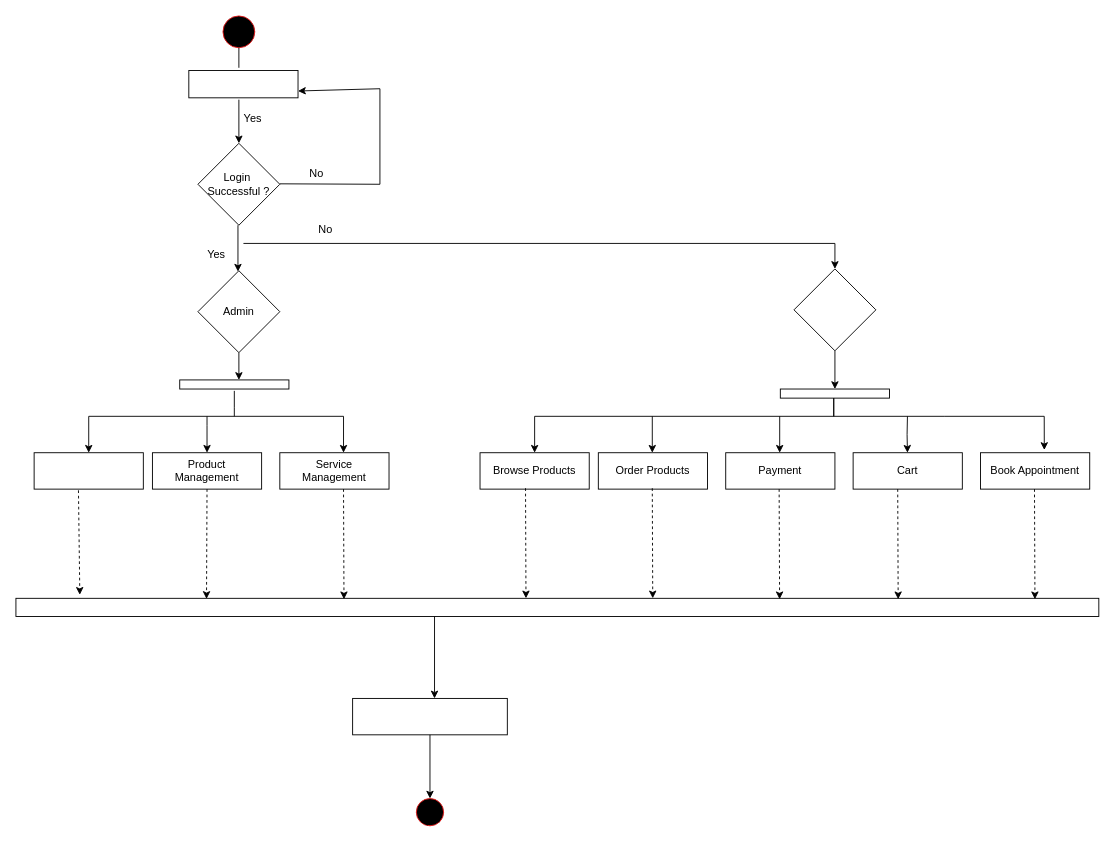
This 1115x845 diagram has some shape labels left out. The shapes that lost their labels are listed below. From the top down, each one's box as (x1, y1, x2, y2) in pixels, then its label:
(188, 70, 298, 98): Login
(793, 268, 876, 351): Registered User
(33, 452, 143, 489): Website Management
(352, 698, 507, 735): Logout
